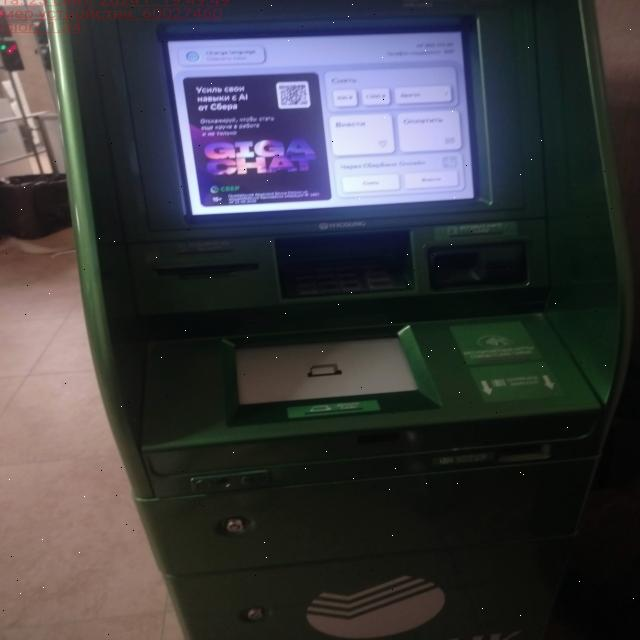bank: (39, 0, 636, 640)
